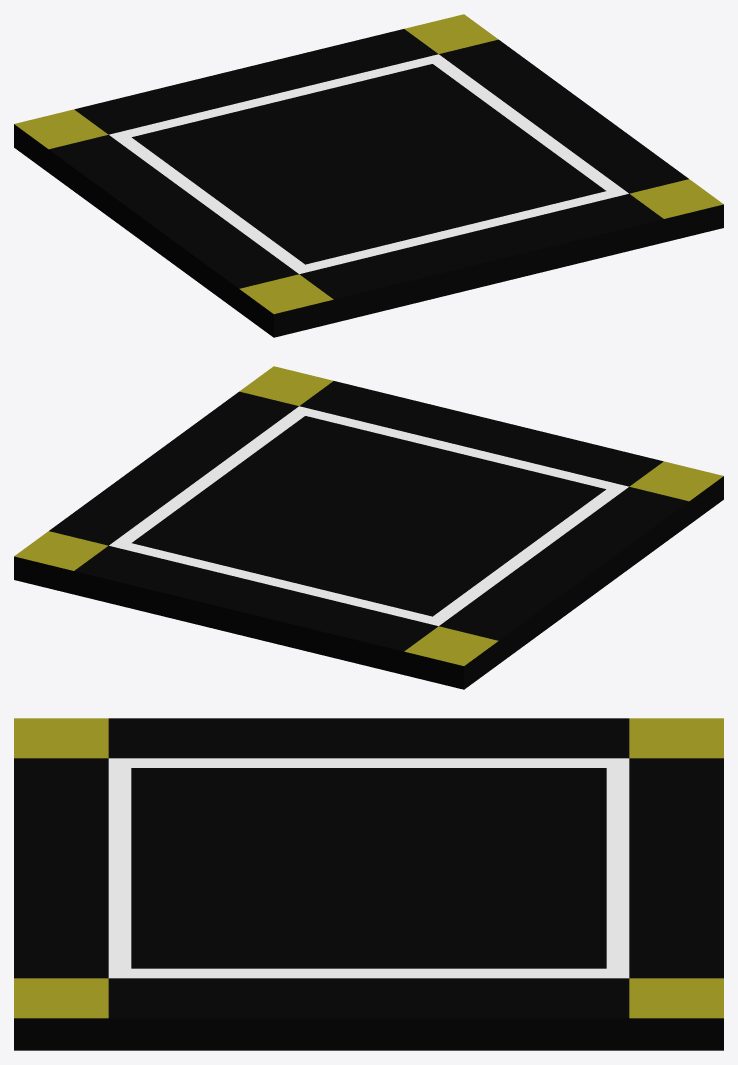
The model's file is 4-way_road_broken.fbx.
3 renders of one model, top to bottom at view 1: azimuth 30°, elevation 25°; view 2: azimuth 150°, elevation 25°; view 3: azimuth 270°, elevation 25°, orthographic. The views are drawn at different scales.
Visible parts, largest first — view 1: Cube.001; view 2: Cube.001; view 3: Cube.001.
Boxes of the visible parts, left/top/right/bottom form: Cube.001: left=14, top=14, right=723, bottom=337; Cube.001: left=14, top=366, right=723, bottom=689; Cube.001: left=14, top=718, right=723, bottom=1050.
Bounding box in the file's own units: 200 × 10 × 200.
